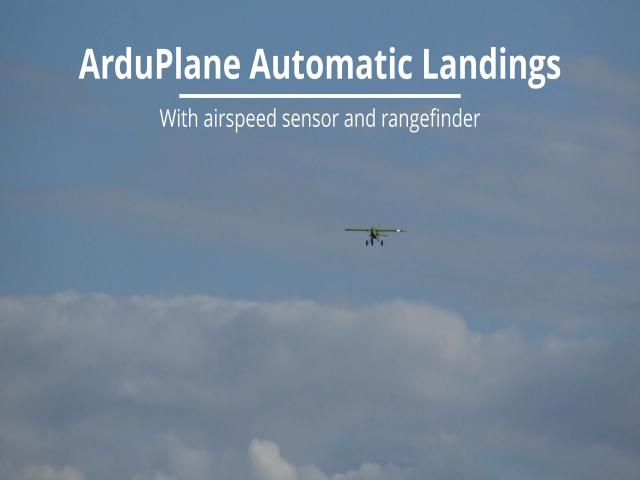plane: (344, 226, 405, 246)
